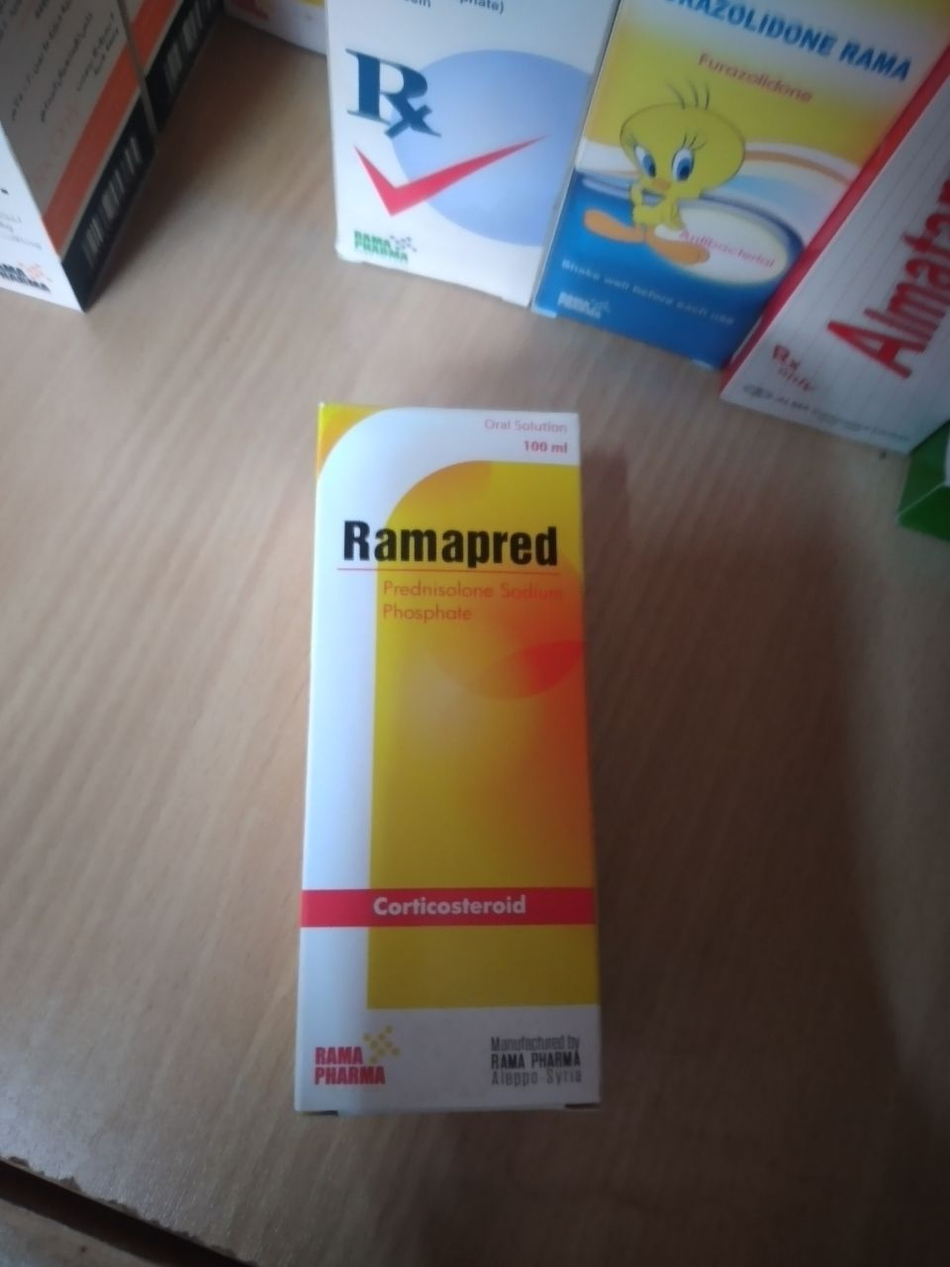Medicine: (280, 383, 620, 1145), (534, 0, 927, 389), (722, 3, 950, 511), (313, 0, 614, 317)
